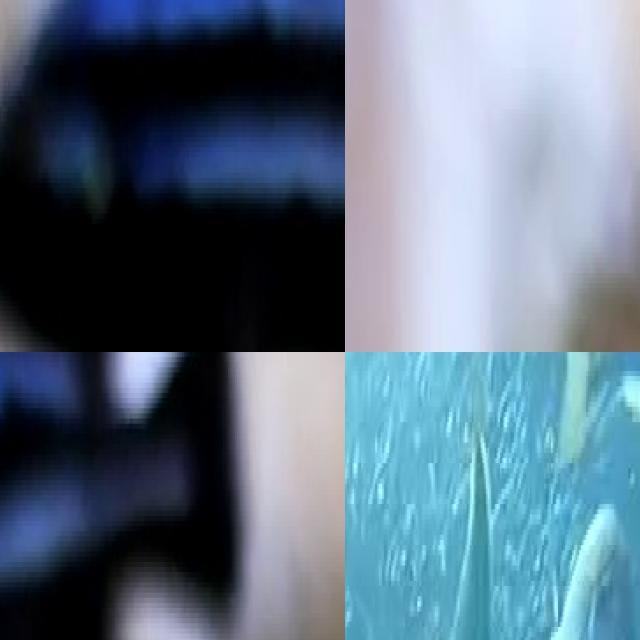fish: (0, 0, 345, 352), (0, 352, 275, 640)
